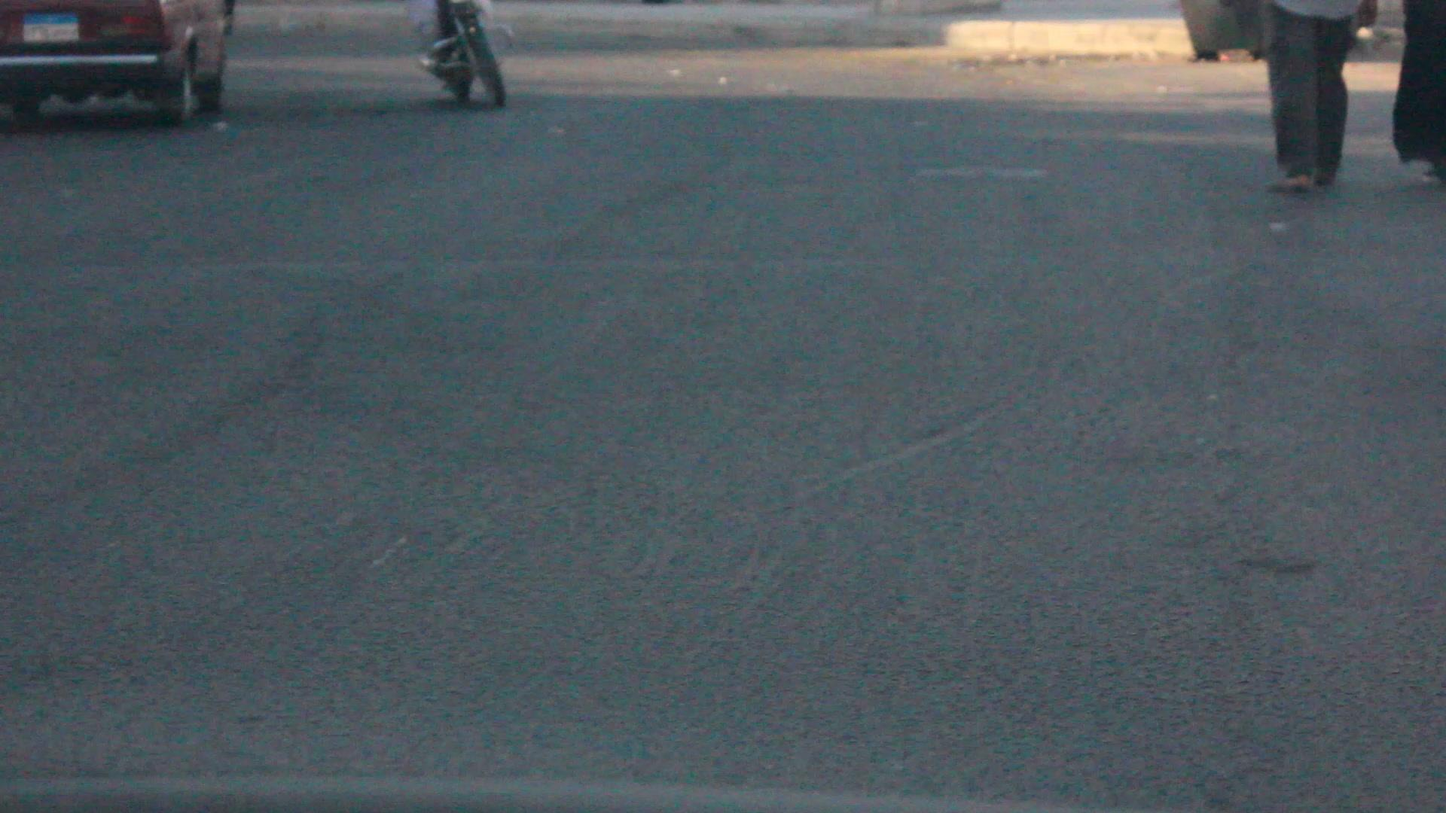Bump: (13, 254, 1446, 442)
